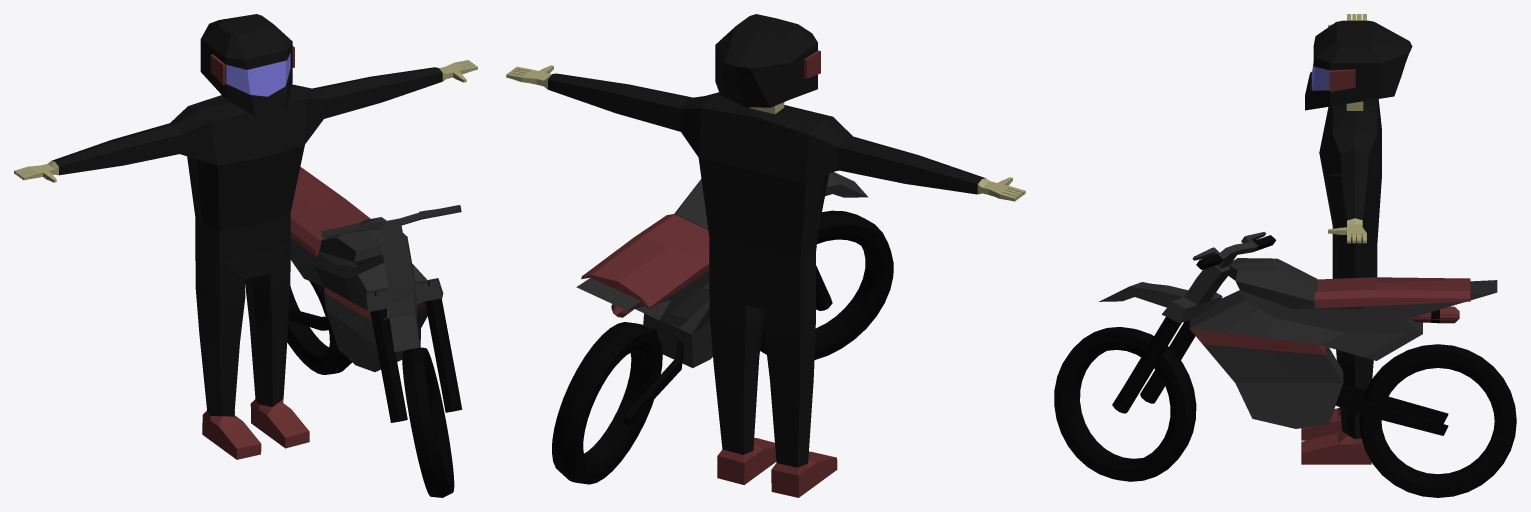
The model's file is mountbiike.glb.
3 views of the same model, side by side, from view 1: azimuth 30°, elevation 25°; view 2: azimuth 150°, elevation 25°; view 3: azimuth 270°, elevation 25° (orthographic). The views are drawn at different scales.
Parts seen in each view (by area): view 1: Body.002; view 2: Body.002; view 3: Body.002.
Part boxes in pixels (left/top/right/bottom): Body.002: left=14, top=14, right=477, bottom=497; Body.002: left=506, top=14, right=1025, bottom=497; Body.002: left=1054, top=14, right=1516, bottom=497.
Size of the model in its own units: 8.23 by 7.05 by 7.11.
